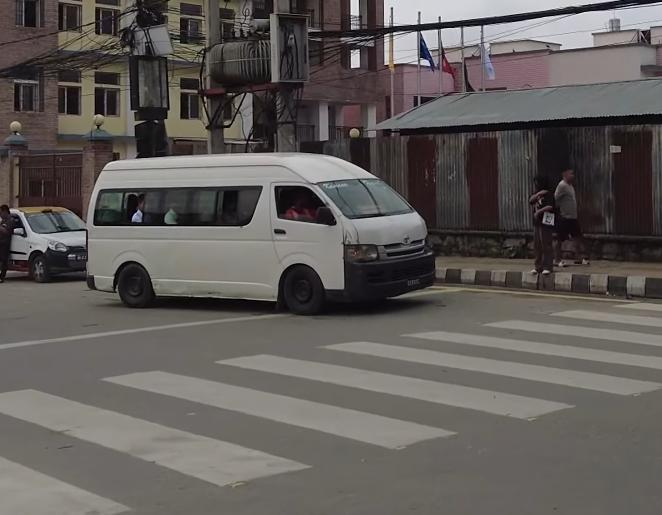micro_bus: (82, 144, 443, 320)
taxi: (0, 202, 92, 282)
